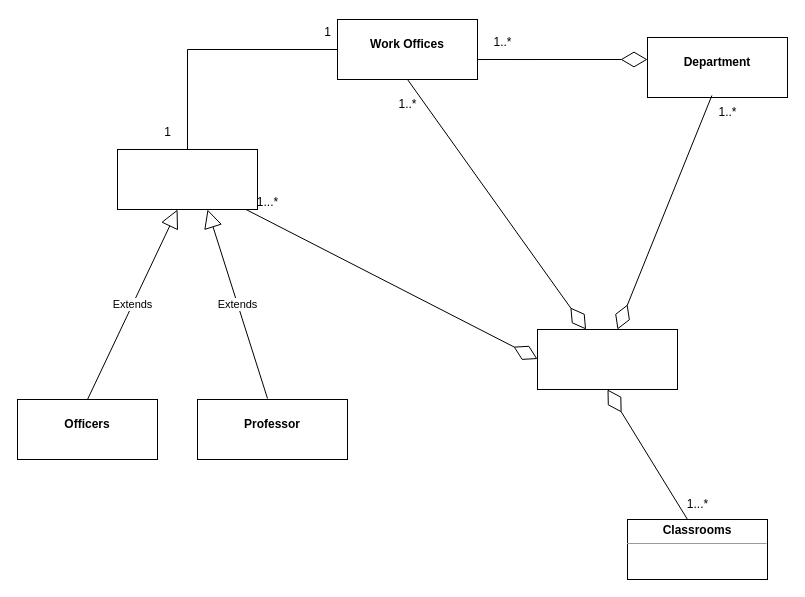
Image size: 805x597. Some labels were removed from this diagram. The shapes that lost their labels are listed below. From the top down, each one's box as (x1, y1, x2, y2) in pixels, then its label:
(116, 148, 258, 210): Employee
(536, 328, 678, 390): University
